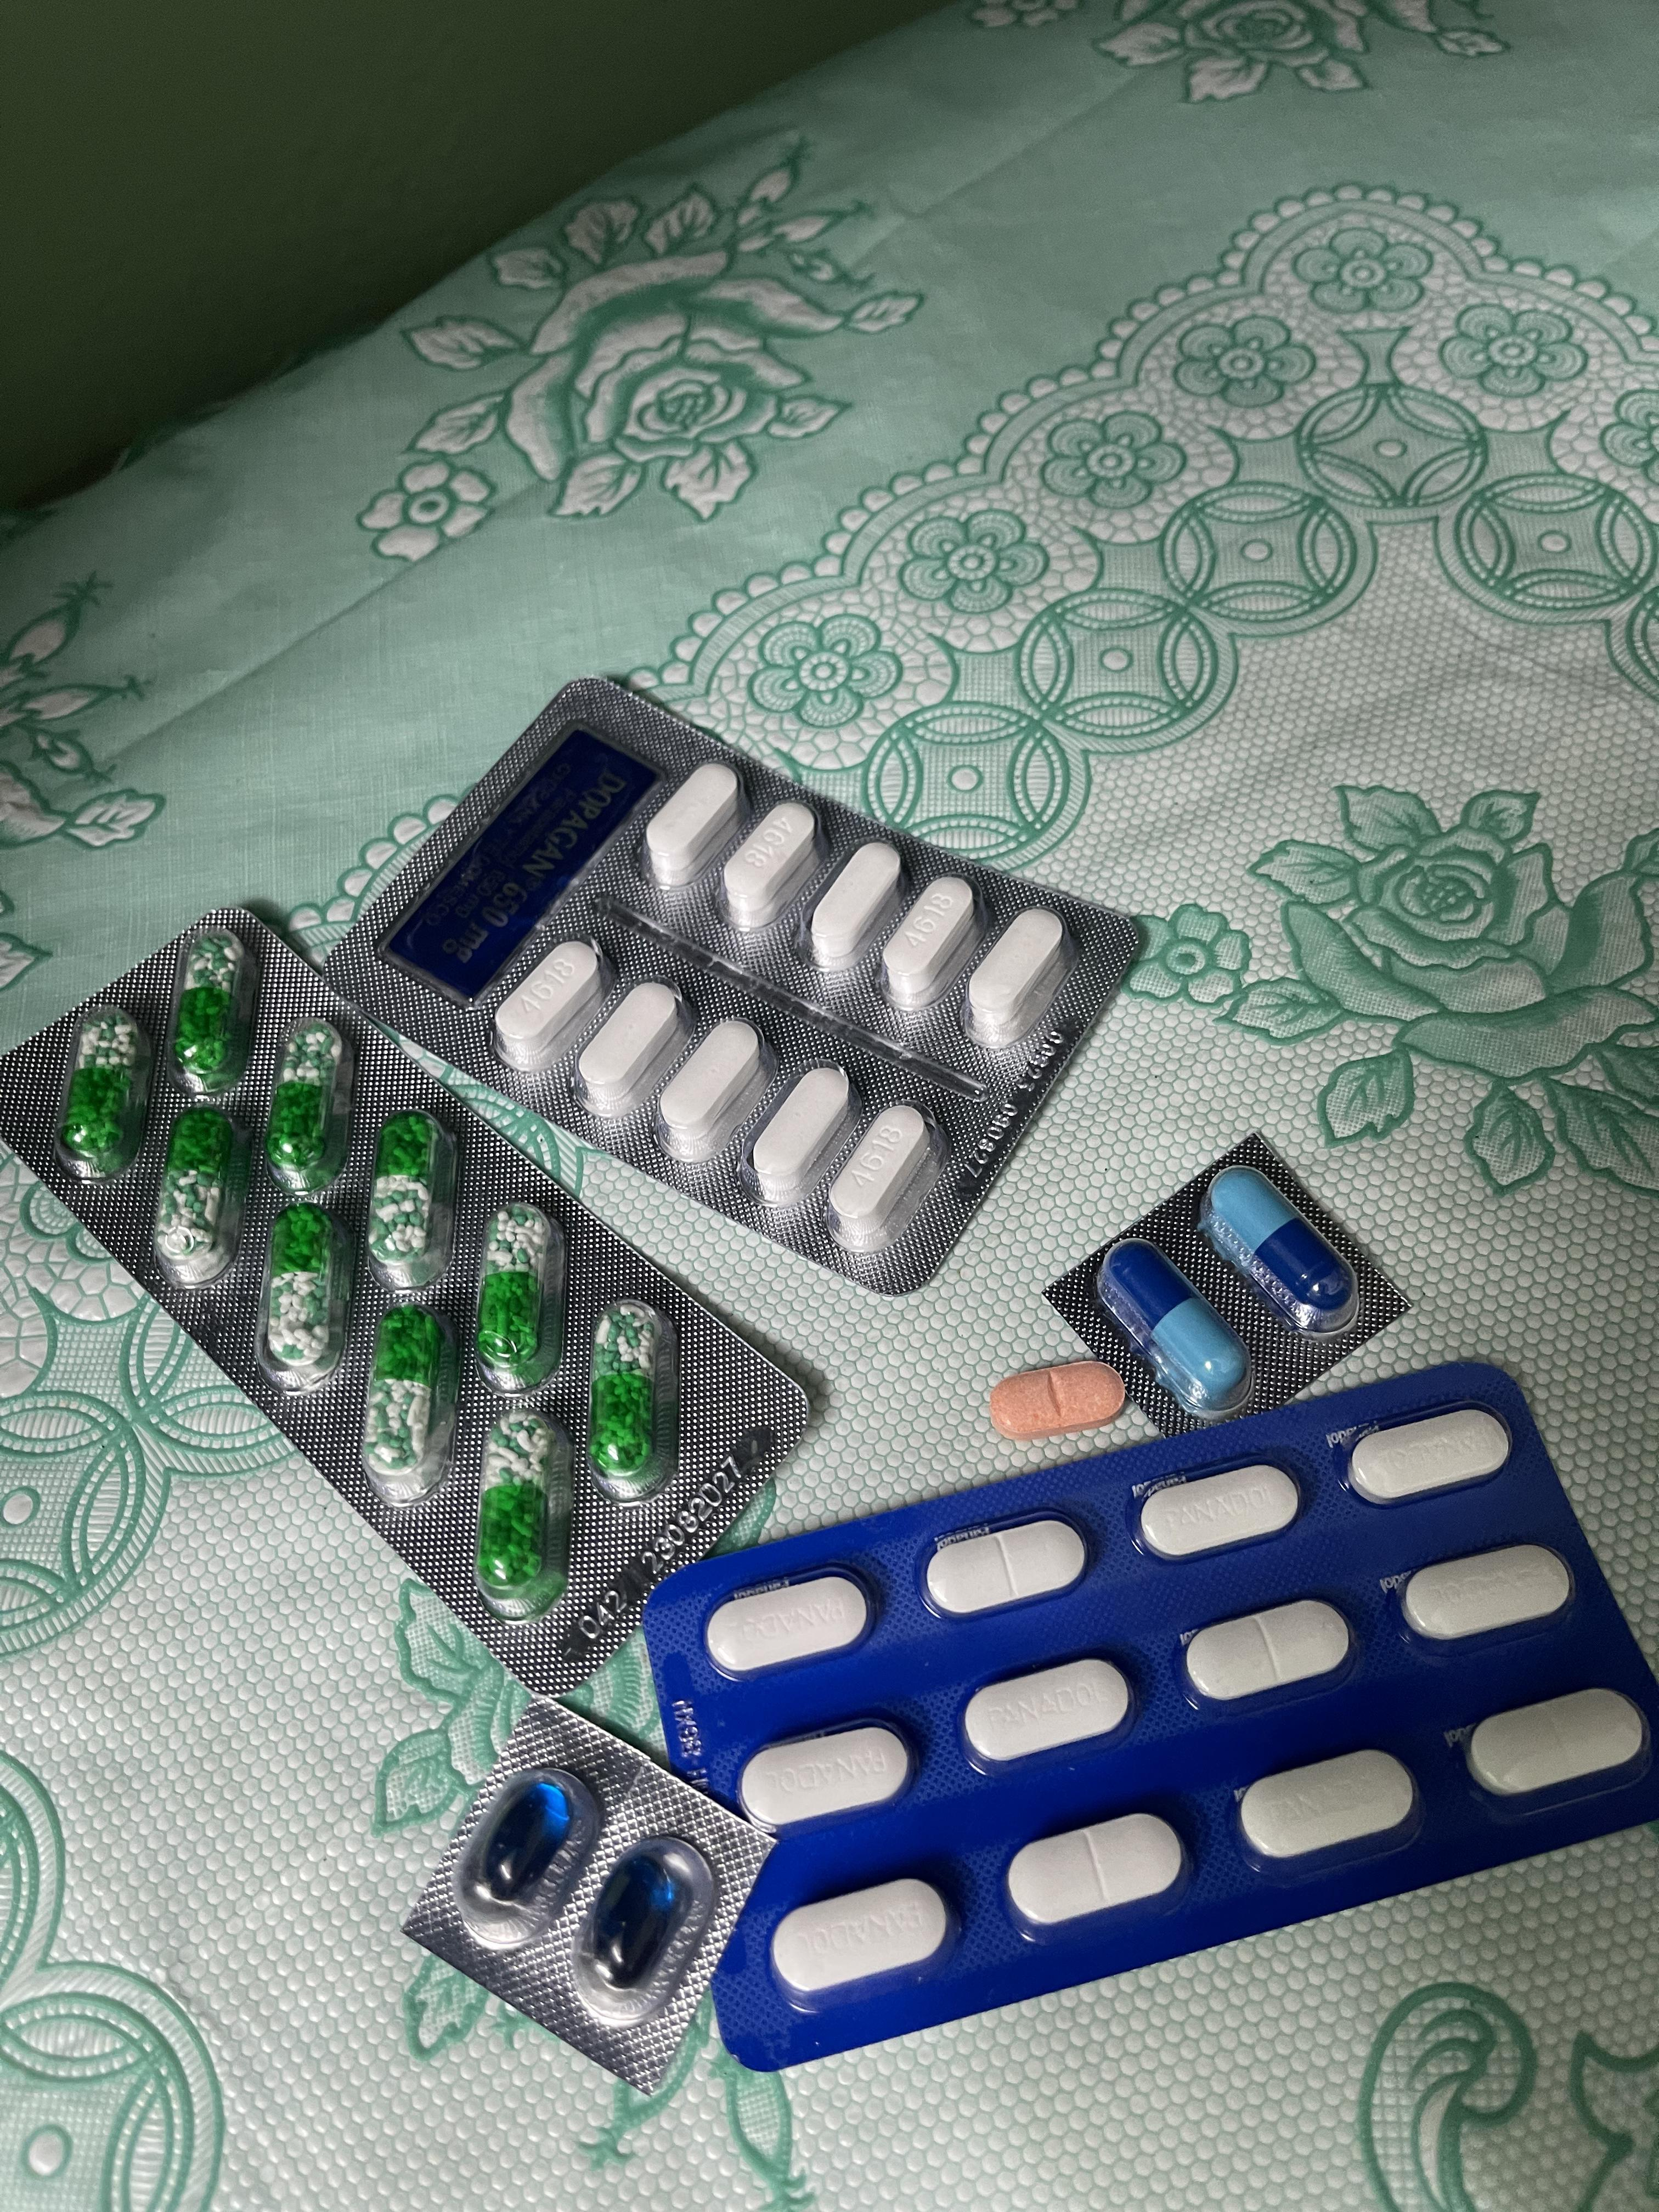Lincomyxin_500mg: (589, 1851, 678, 1982), (479, 1780, 572, 1898)
Loratadine_10mg: (990, 1360, 1127, 1440)
Paracetamol_350mg: (770, 1874, 950, 2001), (1462, 1686, 1657, 1803), (1236, 1747, 1420, 1867), (1009, 1811, 1188, 1930), (964, 1655, 1138, 1770), (737, 1719, 910, 1832), (704, 1568, 871, 1677), (1182, 1597, 1352, 1703), (1398, 1543, 1577, 1644), (924, 1512, 1089, 1616), (1134, 1463, 1302, 1559), (1349, 1407, 1514, 1503)
Paracetamol_500mg: (824, 1103, 943, 1254), (657, 1019, 770, 1169), (575, 979, 690, 1122), (493, 939, 610, 1076), (964, 913, 1070, 1061), (749, 1068, 857, 1212), (878, 871, 979, 1021), (720, 803, 819, 939), (809, 843, 906, 981), (645, 766, 744, 894)
Paracetamol_650mg: (357, 1303, 458, 1507), (472, 1402, 570, 1604), (582, 1299, 673, 1498), (256, 1205, 350, 1386), (364, 1113, 458, 1291), (54, 1012, 152, 1183), (474, 1200, 565, 1383), (155, 1104, 242, 1287), (167, 923, 258, 1094), (263, 1022, 354, 1190)
pill: (1098, 1240, 1253, 1423), (1209, 1167, 1359, 1334)
